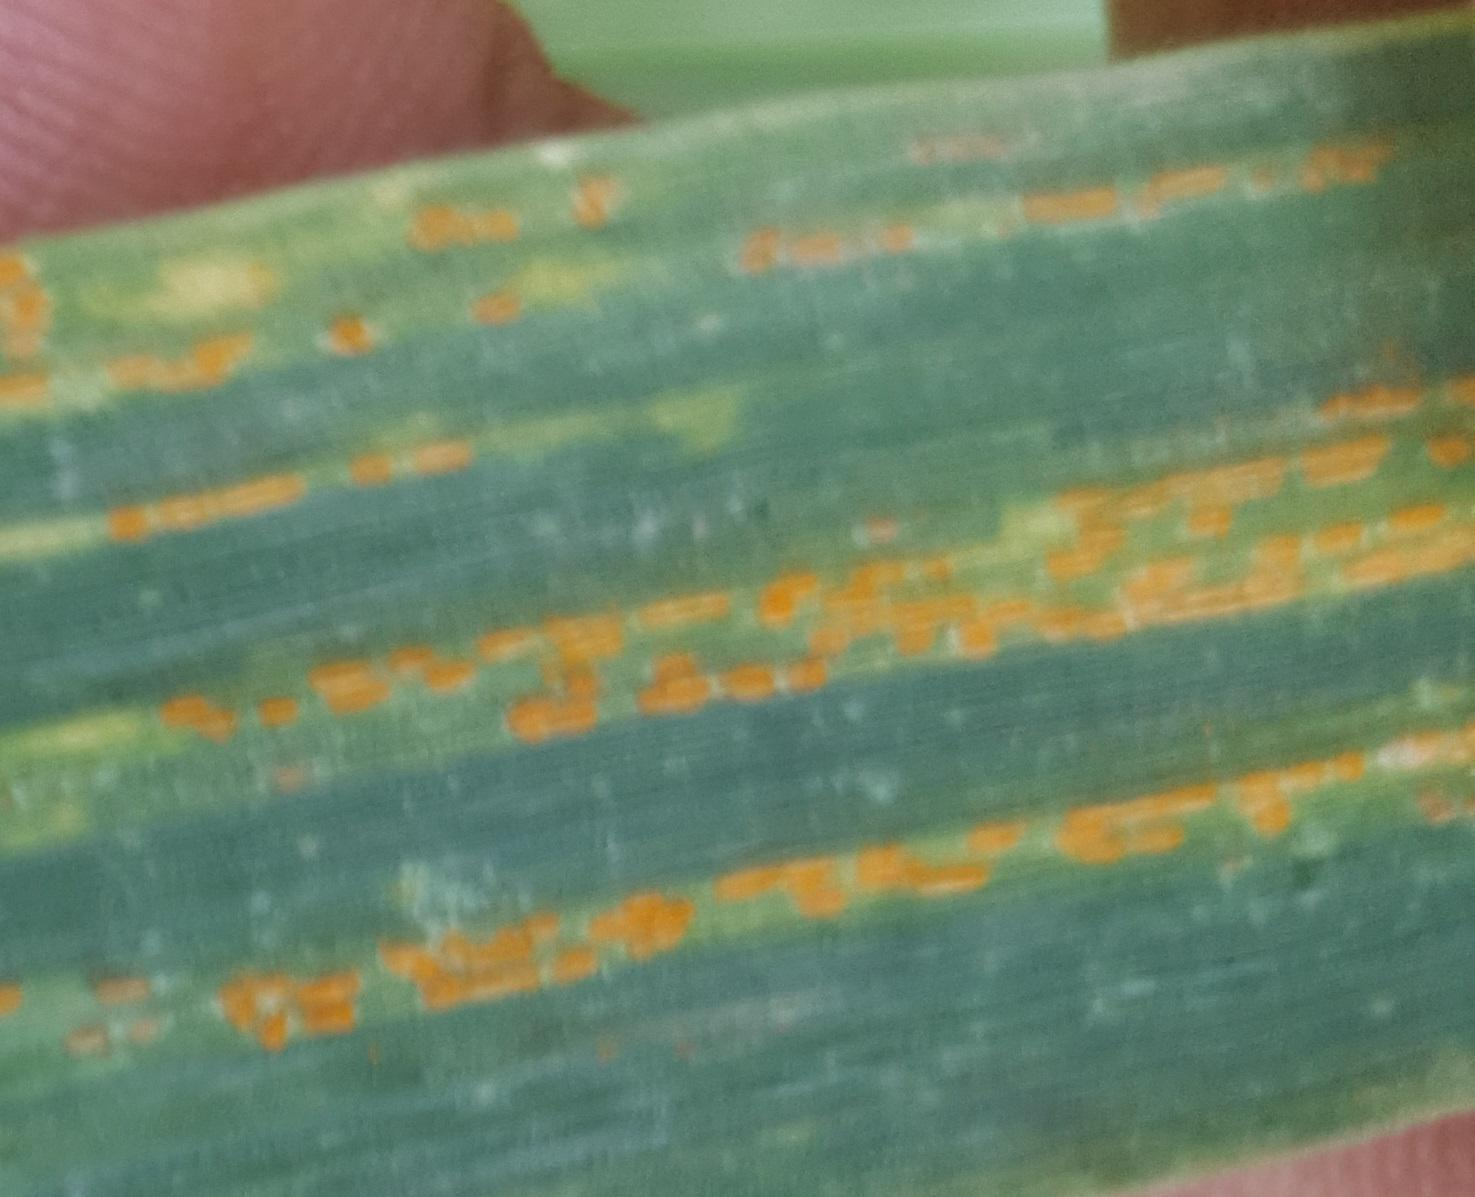Wheat: (120, 359, 1458, 826), (192, 689, 1444, 1077)
